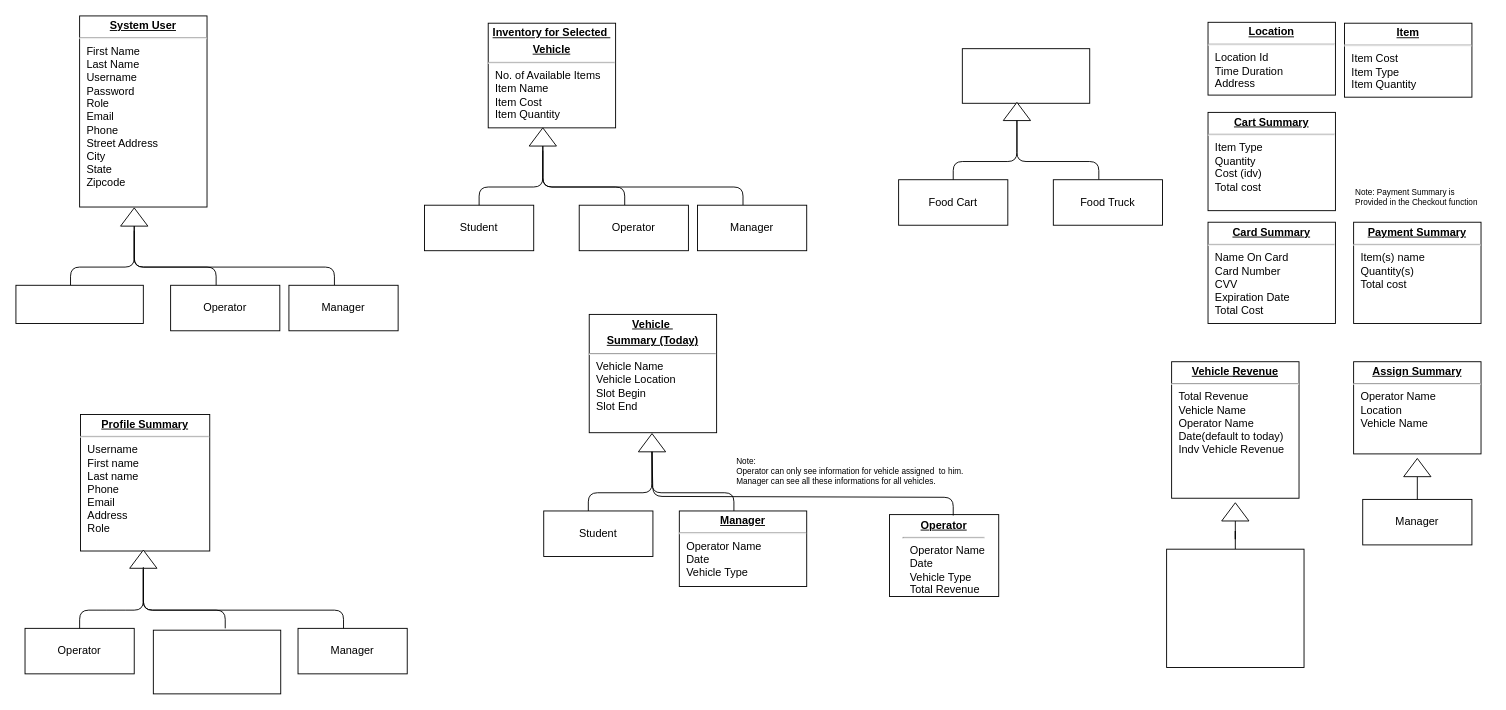
The diagram is 1506 pixels wide and 710 high, and some of its shapes have lost their labels. The shapes that lost their labels are listed below. From the top down, each one's box as (x1, y1, x2, y2) in pixels, then its label:
(961, 48, 1090, 103): Vehicle Vehicle Id
(15, 284, 143, 324): Student/ staff
(1166, 548, 1304, 667): Manager Date(default to today) Revenue
(152, 629, 281, 694): Student Card/ Payment Information
